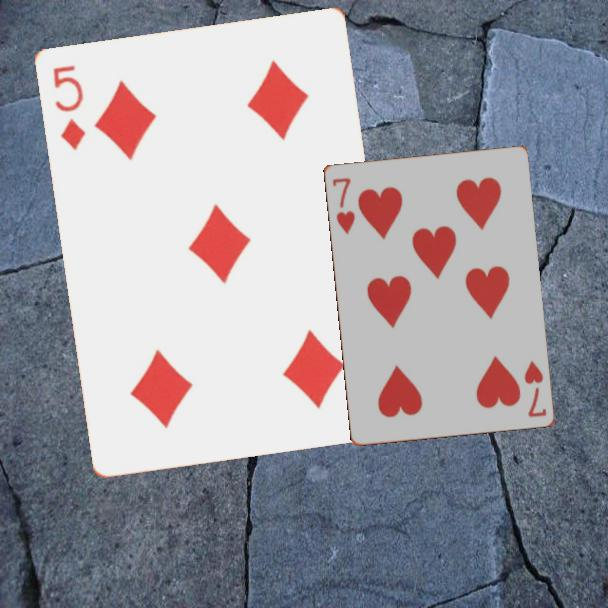d05: (50, 62, 89, 153)
h07: (329, 174, 358, 237), (520, 357, 549, 420)
